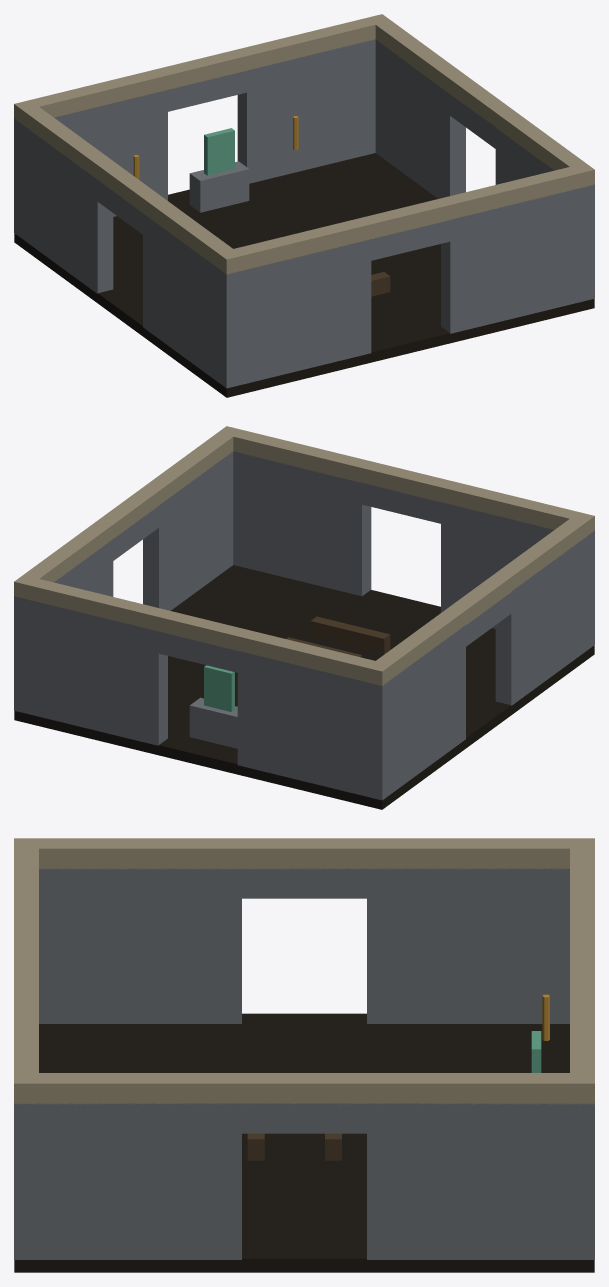
File: ChapelRoom.fbx
The picture shows the model from 3 angles, top to bottom: view 1: azimuth 30°, elevation 25°; view 2: azimuth 150°, elevation 25°; view 3: azimuth 270°, elevation 25°; orthographic projection. The views are drawn at different scales.
Parts seen in each view (by area): view 1: ChapelRoom; view 2: ChapelRoom; view 3: ChapelRoom.
Boxes of the visible parts, x1,y1,x2,y2 form: ChapelRoom: (14, 14, 594, 397); ChapelRoom: (14, 426, 594, 809); ChapelRoom: (14, 838, 594, 1272).
Size of the model in its own units: 1202 by 432 by 1202.
Materials: 6 (6 with a texture image).
